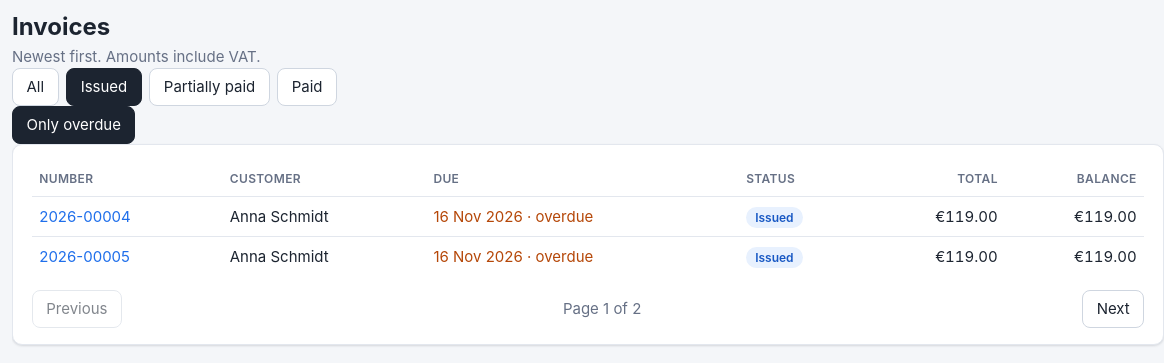
Test: InvoicesPage › starts from the address, says when nothing is overdue and pages with the filters
expect the text "Page 1 of 2" is shown: met, box [563, 298, 641, 320]
Click the button "Next" at (1113, 309), box [1082, 290, 1144, 328]
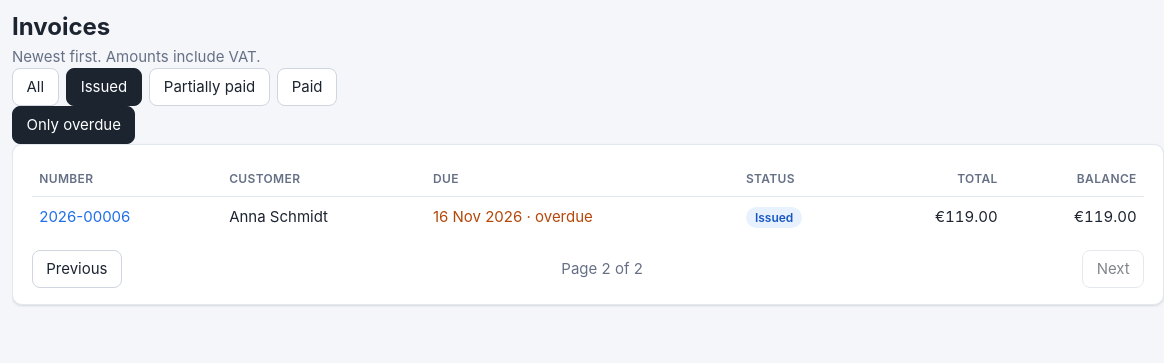
expect the link "2026-00006" is shown: met, box [39, 206, 130, 226]
Click the button "Paid" at (307, 87), box [277, 68, 337, 106]
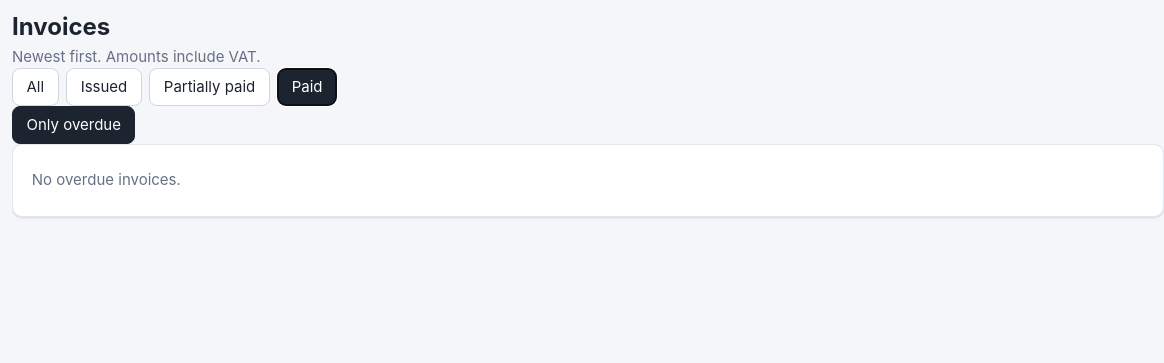
expect the text "No overdue invoices." is shown: met, box [32, 170, 181, 189]
